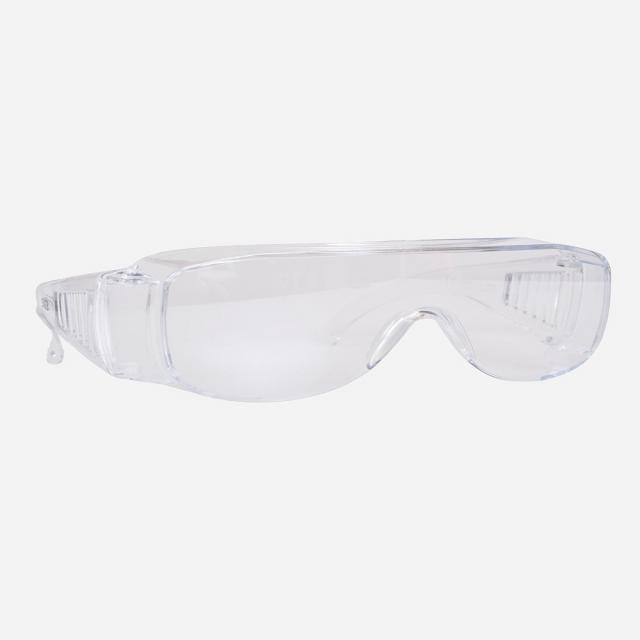Protective Glasses: (8, 166, 640, 454)
